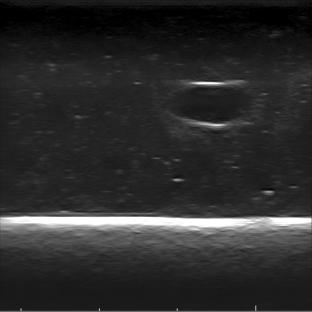vessel: (167, 80, 253, 130)
